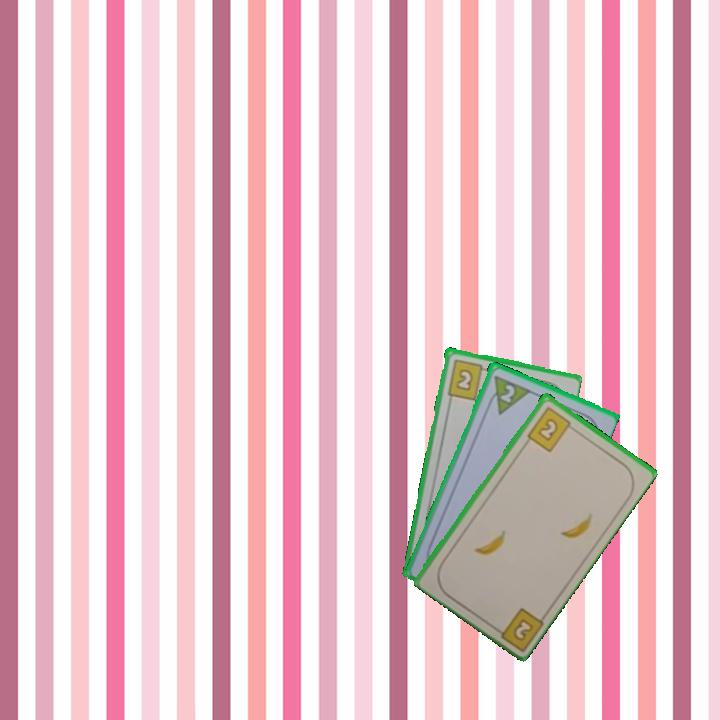2b: (523, 403, 578, 454), (489, 604, 546, 652), (444, 356, 491, 402)
2p: (496, 380, 518, 405)
